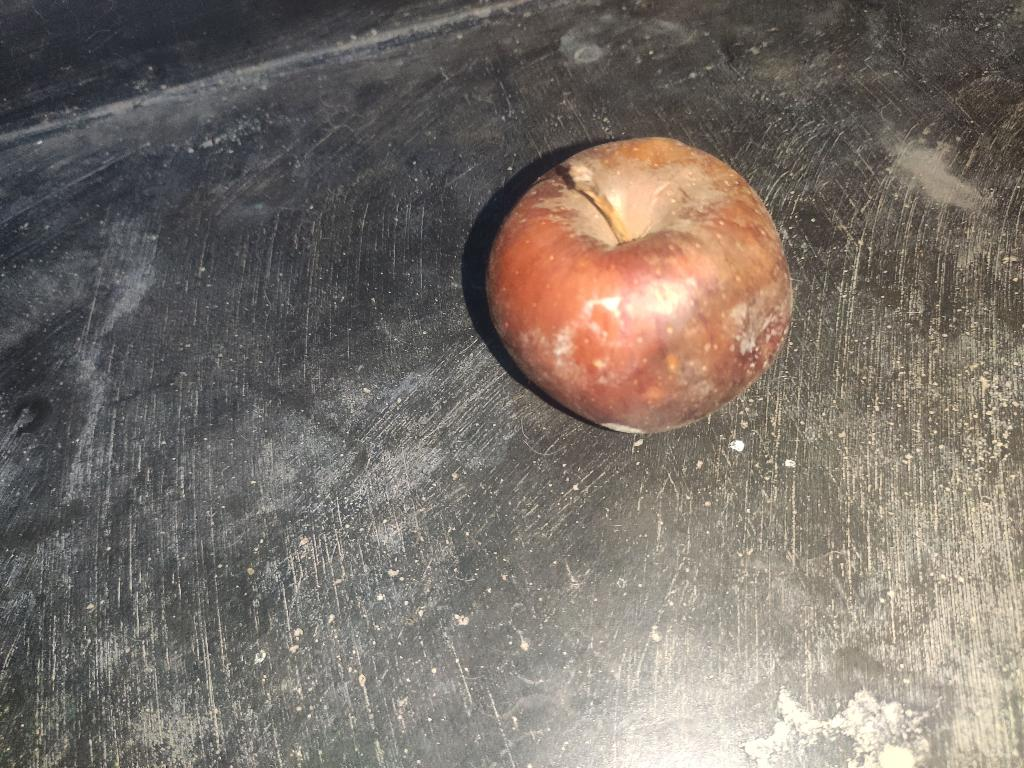apple: (487, 138, 791, 433)
rot_mold_decay: (487, 138, 791, 433)
